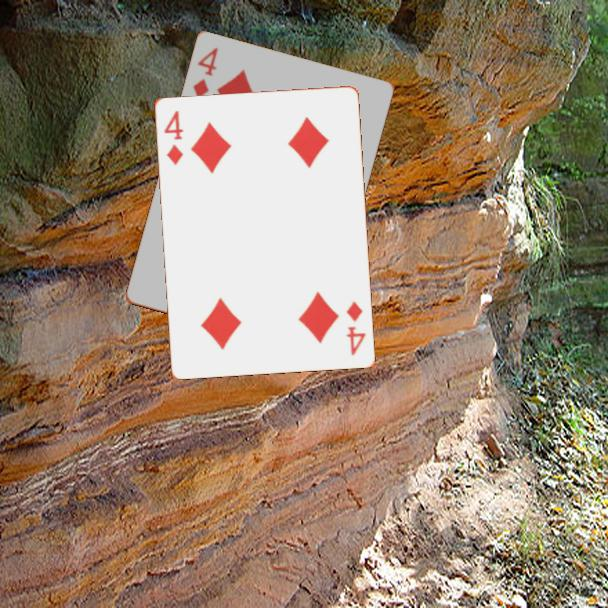d04: (189, 44, 221, 102), (160, 107, 186, 168), (342, 298, 368, 358)
